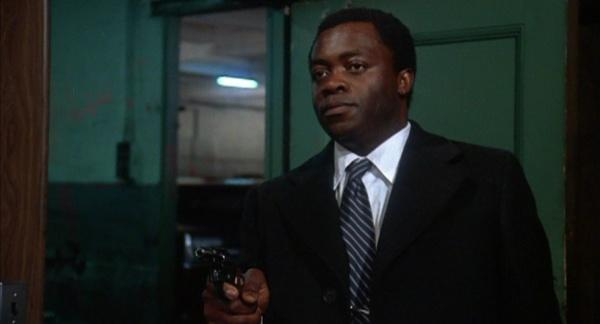Gun: (197, 243, 250, 292)
